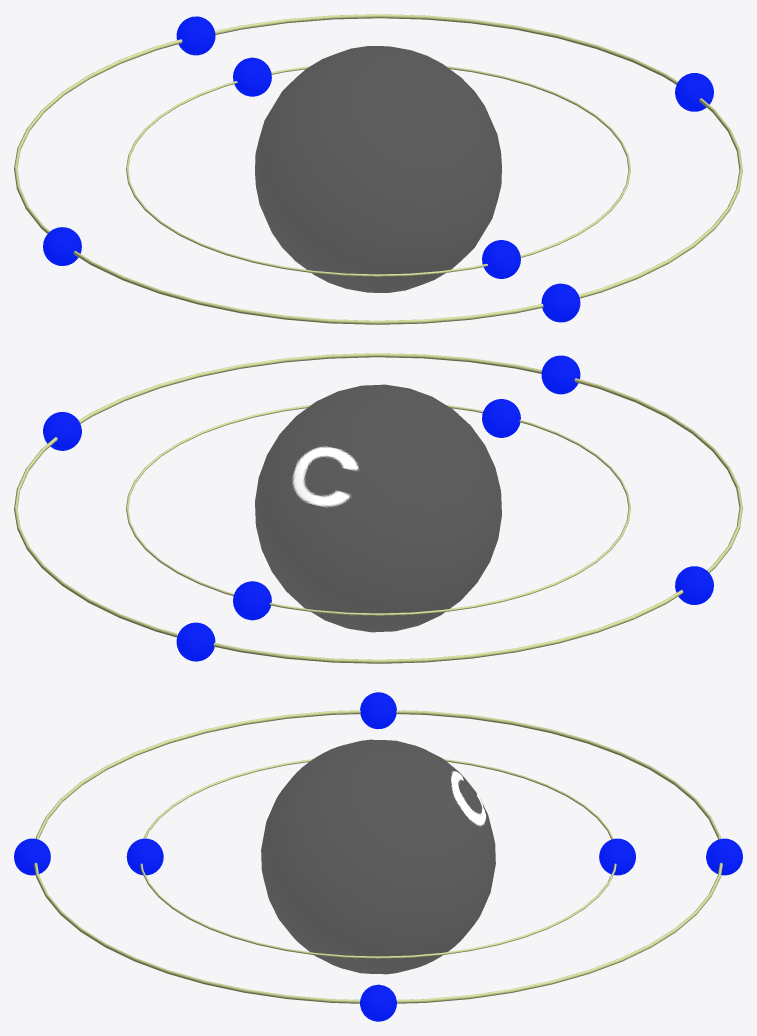
The picture shows the model from 3 angles, top to bottom: view 1: azimuth 30°, elevation 25°; view 2: azimuth 150°, elevation 25°; view 3: azimuth 270°, elevation 25°; orthographic projection. The views are drawn at different scales.
Parts seen in each view (by area): view 1: 球体, 贝塞尔圆环.001, 贝塞尔圆环, 球体.009, 球体.001, 球体.007, 球体.004, 球体.006, 球体.011; view 2: 球体, 贝塞尔圆环.001, 贝塞尔圆环, 球体.007, 球体.001, 球体.004, 球体.009, 球体.006, 球体.011; view 3: 球体, 贝塞尔圆环.001, 贝塞尔圆环, 球体.011, 球体.006, 球体.004, 球体.001, 球体.009, 球体.007.
Part boxes in pixels (x1=…): 球体: x1=255, y1=46, x2=501, y2=292; 贝塞尔圆环.001: x1=14, y1=14, x2=742, y2=324; 贝塞尔圆环: x1=126, y1=66, x2=630, y2=276; 球体.009: x1=541, y1=283, x2=580, y2=322; 球体.001: x1=233, y1=57, x2=271, y2=96; 球体.007: x1=176, y1=16, x2=215, y2=55; 球体.004: x1=482, y1=240, x2=520, y2=278; 球体.006: x1=43, y1=227, x2=81, y2=265; 球体.011: x1=675, y1=73, x2=713, y2=111; 球体: x1=255, y1=384, x2=501, y2=632; 贝塞尔圆环.001: x1=14, y1=353, x2=742, y2=663; 贝塞尔圆环: x1=126, y1=405, x2=630, y2=615; 球体.007: x1=176, y1=622, x2=215, y2=661; 球体.001: x1=233, y1=581, x2=271, y2=620; 球体.004: x1=482, y1=399, x2=520, y2=437; 球体.009: x1=541, y1=355, x2=580, y2=394; 球体.006: x1=675, y1=566, x2=713, y2=604; 球体.011: x1=43, y1=412, x2=81, y2=450; 球体: x1=261, y1=739, x2=495, y2=974; 贝塞尔圆环.001: x1=34, y1=710, x2=722, y2=1003; 贝塞尔圆环: x1=140, y1=759, x2=616, y2=958; 球体.011: x1=360, y1=984, x2=396, y2=1021; 球体.006: x1=360, y1=692, x2=396, y2=729; 球体.004: x1=126, y1=838, x2=163, y2=875; 球体.001: x1=599, y1=838, x2=635, y2=875; 球体.009: x1=14, y1=838, x2=50, y2=875; 球体.007: x1=706, y1=838, x2=742, y2=875.
Size of the model in its own units: 1.85 by 0.5973 by 1.85.
Materials: 3 (1 with a texture image).
